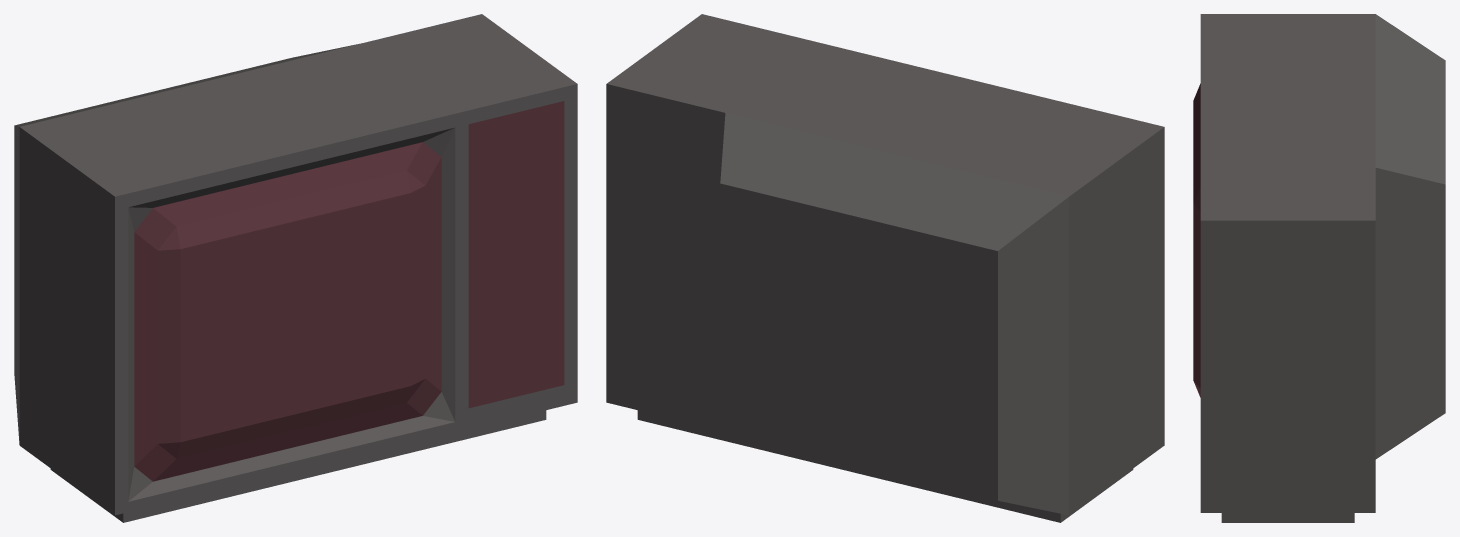
File: electronics-television-old.glb
3 views of the same model, side by side, from view 1: azimuth 30°, elevation 25°; view 2: azimuth 150°, elevation 25°; view 3: azimuth 270°, elevation 25° (orthographic). The views are drawn at different scales.
Visible parts, largest first — view 1: television-old; view 2: television-old; view 3: television-old.
Part boxes in pixels (<box>): television-old: <box>14,14,577,522</box>; television-old: <box>606,14,1164,522</box>; television-old: <box>1193,14,1445,522</box>.
Bounding box in the file's own units: 0.7 × 0.4909 × 0.3608.
